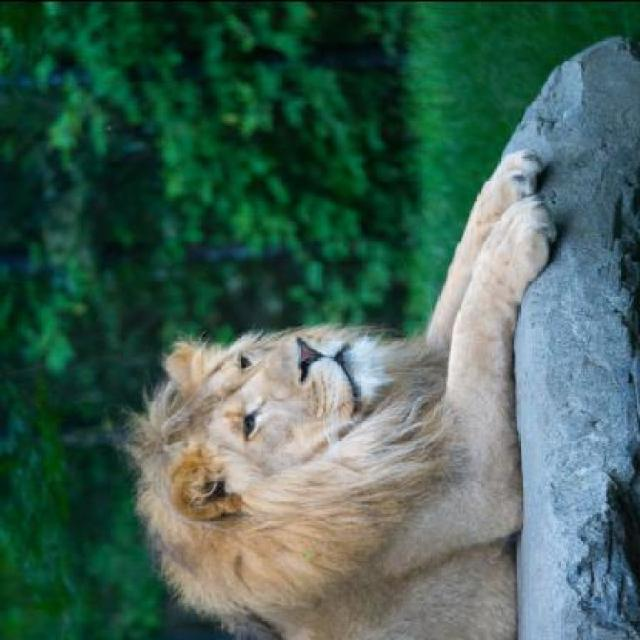Lion: (117, 140, 585, 632)
